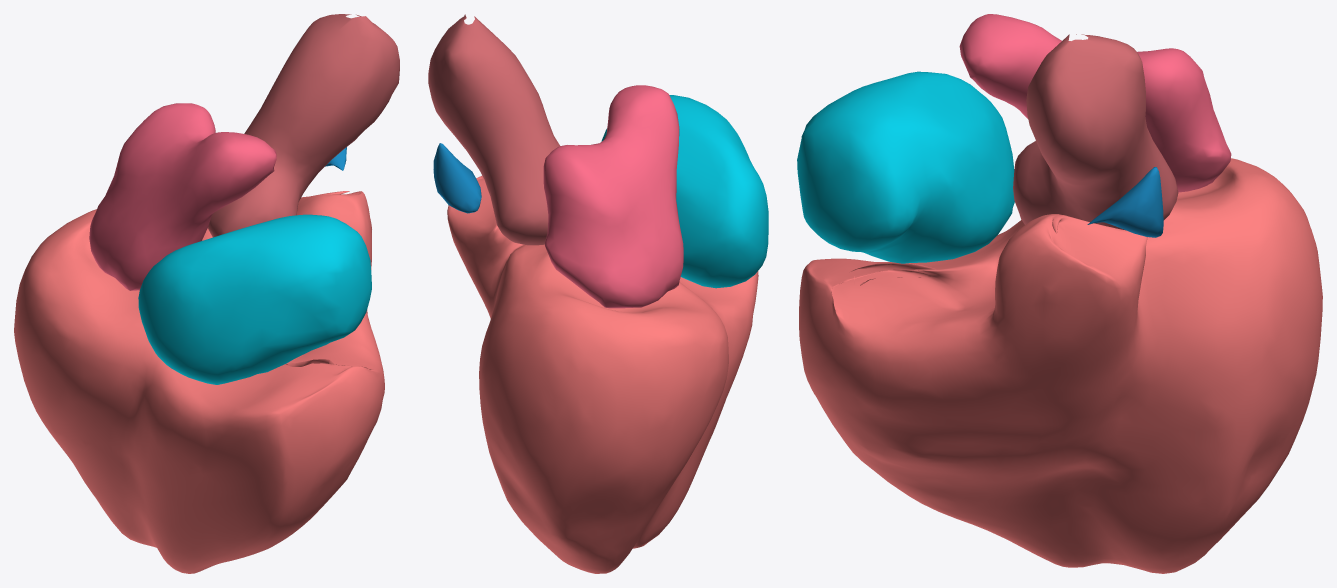
The model's file is frame_12.glb.
3 renders of one model, left to right at view 1: azimuth 30°, elevation 25°; view 2: azimuth 150°, elevation 25°; view 3: azimuth 270°, elevation 25°, orthographic. The views are drawn at different scales.
Visible parts, largest first — view 1: Renderer Node; view 2: Renderer Node; view 3: Renderer Node.
Part boxes in pixels (x1,y1,x2,y2): Renderer Node: [14, 14, 399, 573]; Renderer Node: [428, 14, 768, 573]; Renderer Node: [797, 14, 1322, 573].
Bounding box in the file's own units: 103 × 155 × 117.
